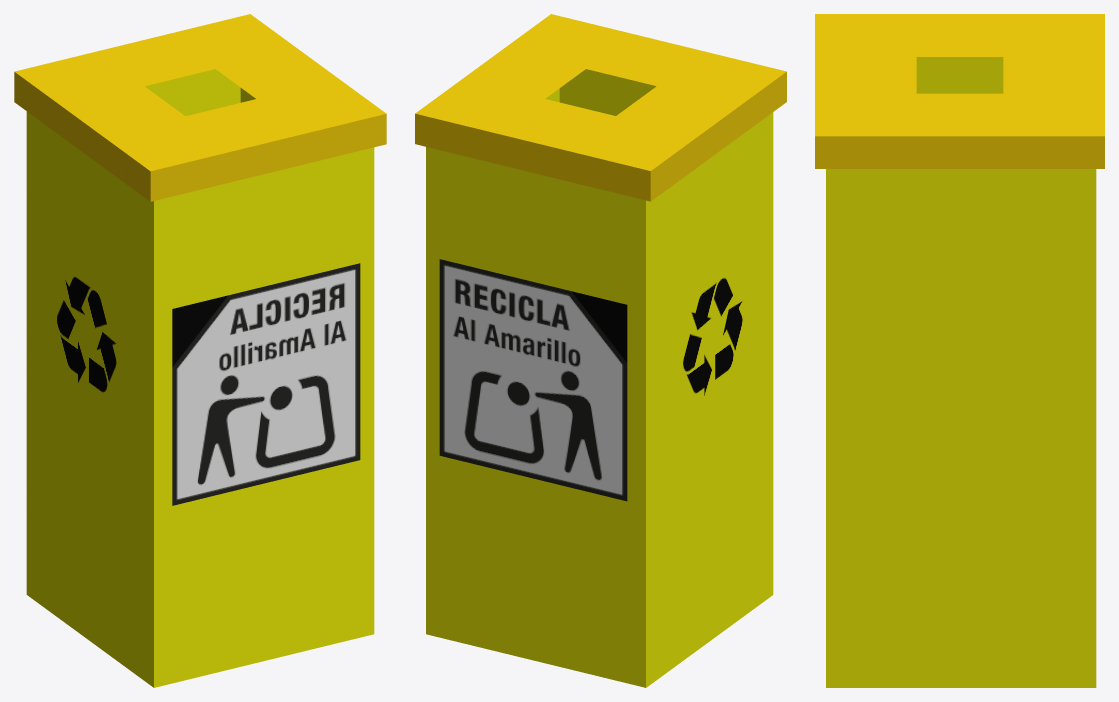
Rendered from Cubos_de_basura_amarillo40.glb.
The picture shows the model from 3 angles, left to right: view 1: azimuth 30°, elevation 25°; view 2: azimuth 150°, elevation 25°; view 3: azimuth 270°, elevation 25°; orthographic projection. The views are drawn at different scales.
Parts seen in each view (by area): view 1: Cube, Cube.001, al amarillo2, graph, al amarillo2.001; view 2: Cube, Cube.001, al amarillo2.003, graph; view 3: Cube, Cube.001.
Boxes of the visible parts, x1=… form: Cube: x1=26, y1=69, x2=374, y2=687; Cube.001: x1=14, y1=14, x2=386, y2=201; al amarillo2: x1=266, y1=263, x2=360, y2=482; graph: x1=36, y1=220, x2=137, y2=476; al amarillo2.001: x1=172, y1=286, x2=266, y2=505; Cube: x1=426, y1=69, x2=773, y2=687; Cube.001: x1=415, y1=14, x2=786, y2=201; al amarillo2.003: x1=439, y1=259, x2=627, y2=501; graph: x1=662, y1=221, x2=763, y2=476; Cube: x1=826, y1=57, x2=1096, y2=687; Cube.001: x1=815, y1=14, x2=1104, y2=168.
Size of the model in its own units: 0.3751 by 0.7932 by 0.3751.
7 materials, 5 textured.
